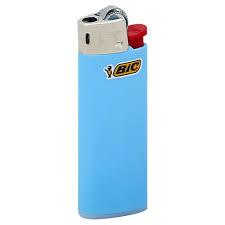lighter: (76, 5, 147, 221)
